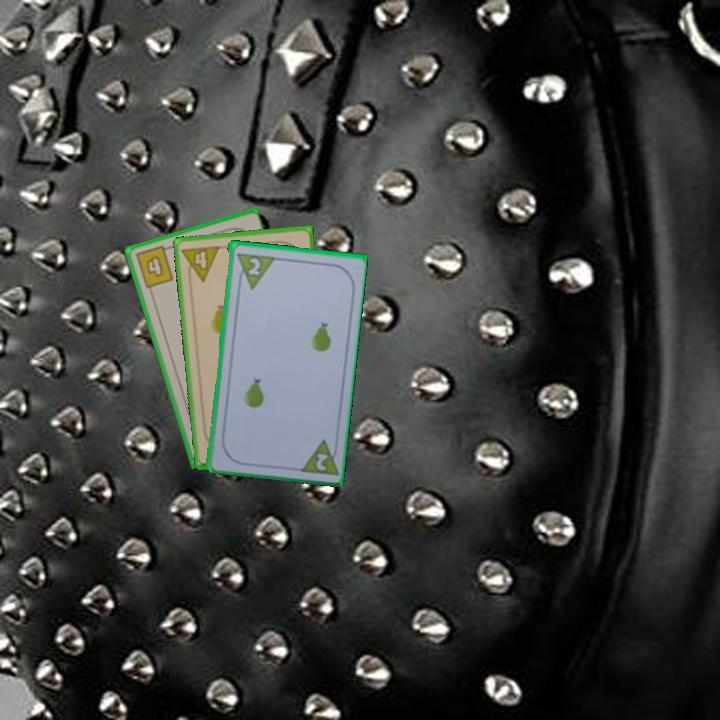2p: (294, 435, 340, 478), (232, 249, 276, 291)
4b: (132, 242, 176, 291)
4p: (178, 242, 223, 285)
